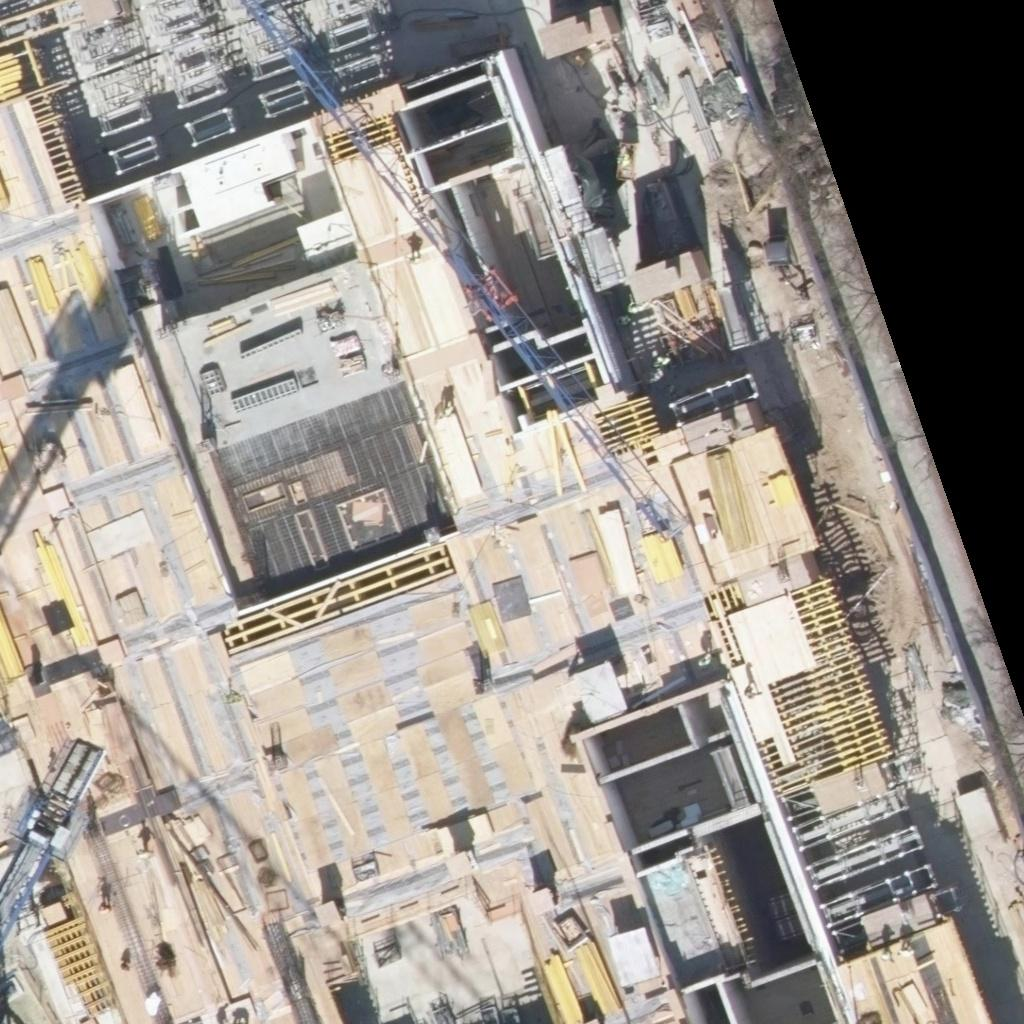zuraw_wiezowy: (133, 0, 756, 548), (0, 727, 113, 966)
